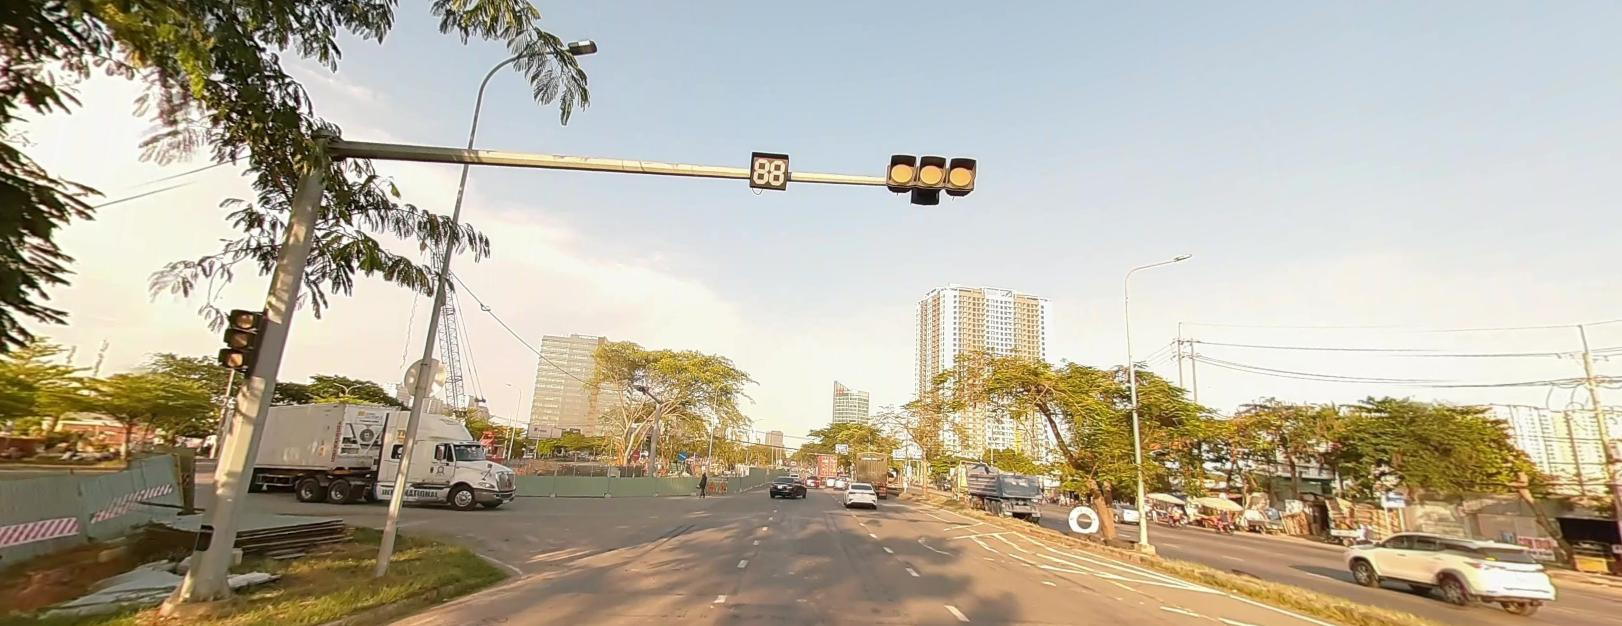Cam nguoc chieu: (631, 448, 639, 458)
Hieu lenh: (677, 450, 687, 458)
